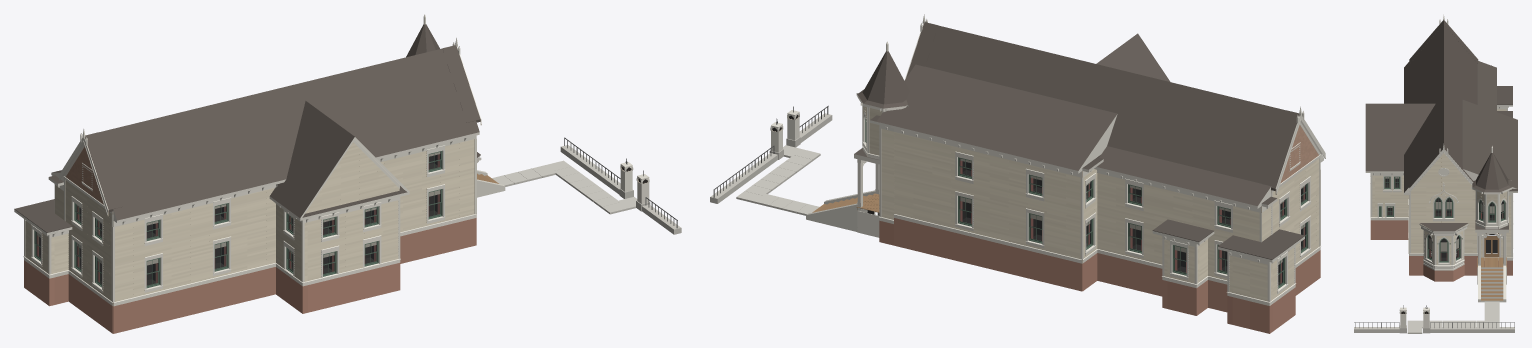
File: shortall_gregory_house_1638_prairie_front__as_standing_1904.glb
3 renders of one model, left to right at view 1: azimuth 30°, elevation 25°; view 2: azimuth 150°, elevation 25°; view 3: azimuth 270°, elevation 25°, orthographic. The views are drawn at different scales.
Visible parts, largest first — view 1: shortall_gregory_house_1638_prairie_front__as_standing_1904; view 2: shortall_gregory_house_1638_prairie_front__as_standing_1904; view 3: shortall_gregory_house_1638_prairie_front__as_standing_1904.
Boxes of the visible parts, <box> form: shortall_gregory_house_1638_prairie_front__as_standing_1904: <box>14,14,681,333</box>; shortall_gregory_house_1638_prairie_front__as_standing_1904: <box>710,14,1325,333</box>; shortall_gregory_house_1638_prairie_front__as_standing_1904: <box>1354,14,1517,333</box>.
Bounding box in the file's own units: 35.86 × 11.71 × 12.89.
